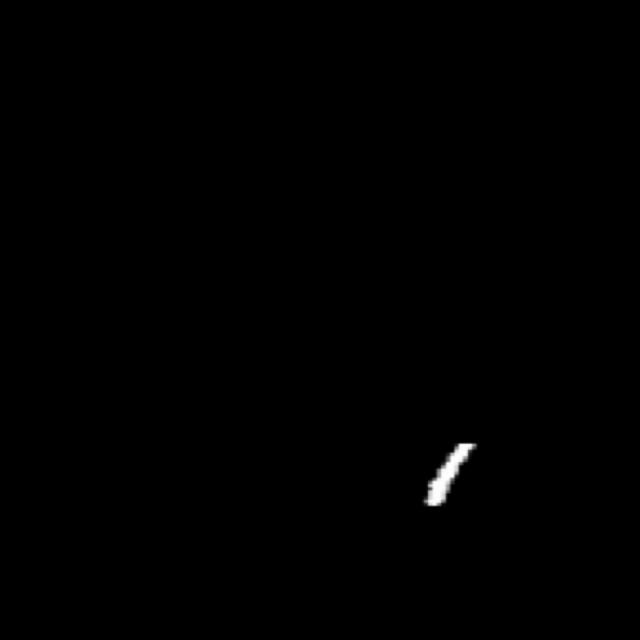one -1-: (409, 429, 508, 532)
